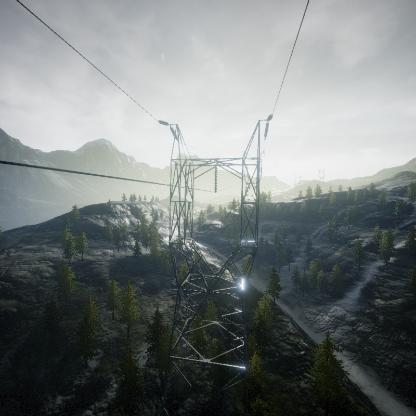tower: (157, 111, 275, 377)
